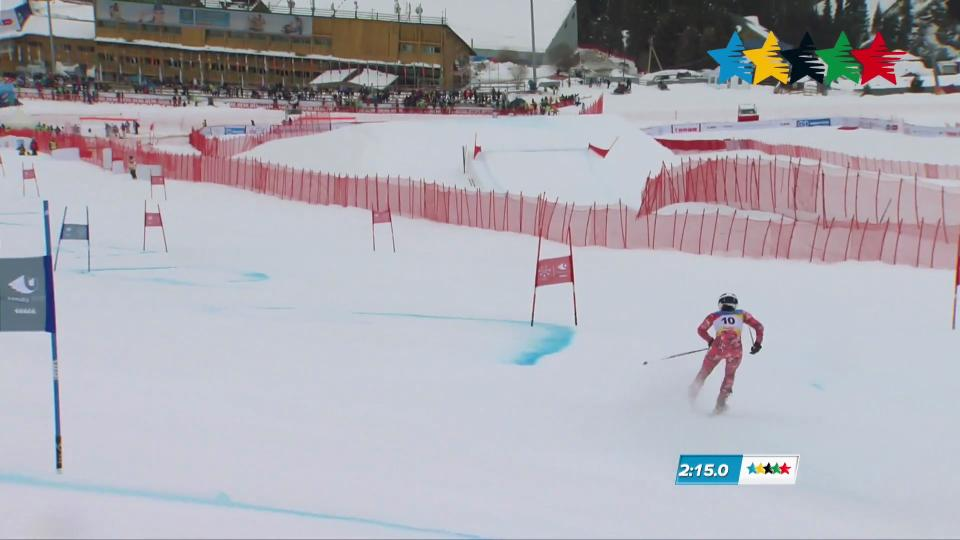gate: (30, 195, 73, 474)
